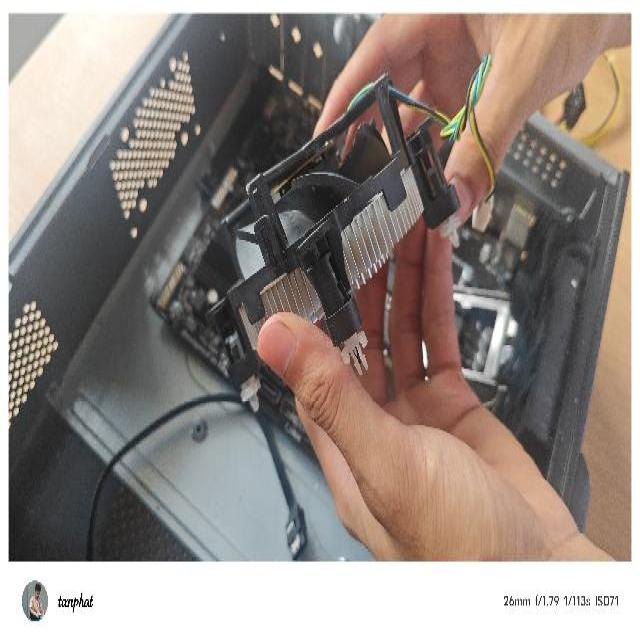CPU_Fan: (198, 69, 477, 413)
